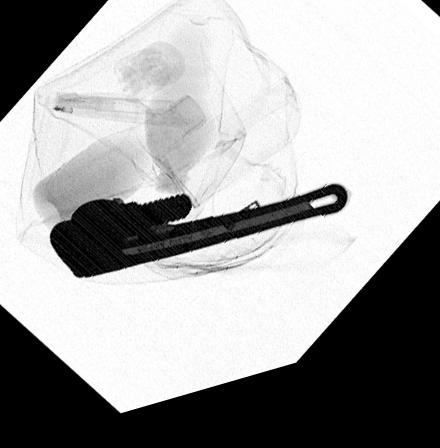Wrench: (44, 201, 349, 286)
